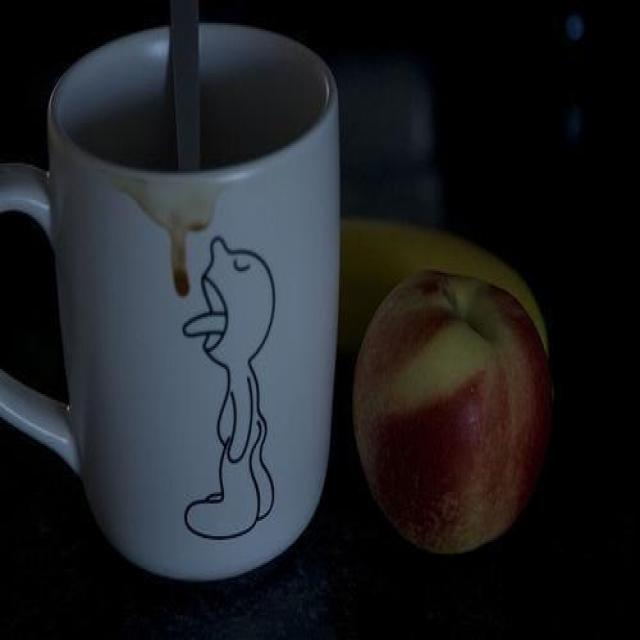cup-handle: (0, 15, 344, 578)
